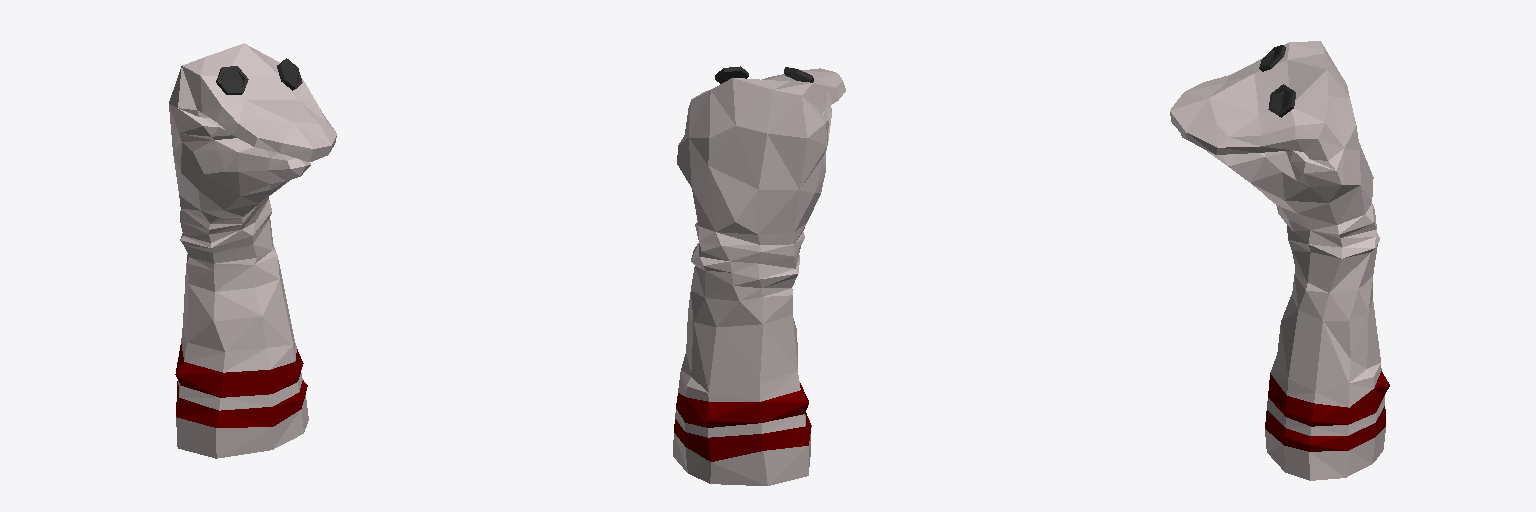
The model's file is sockPuppet_colorMap.obj.
3 views of the same model, side by side, from view 1: azimuth 30°, elevation 25°; view 2: azimuth 150°, elevation 25°; view 3: azimuth 270°, elevation 25° (orthographic).
Bounding box in the file's own units: 31.82 × 87.38 × 44.64.